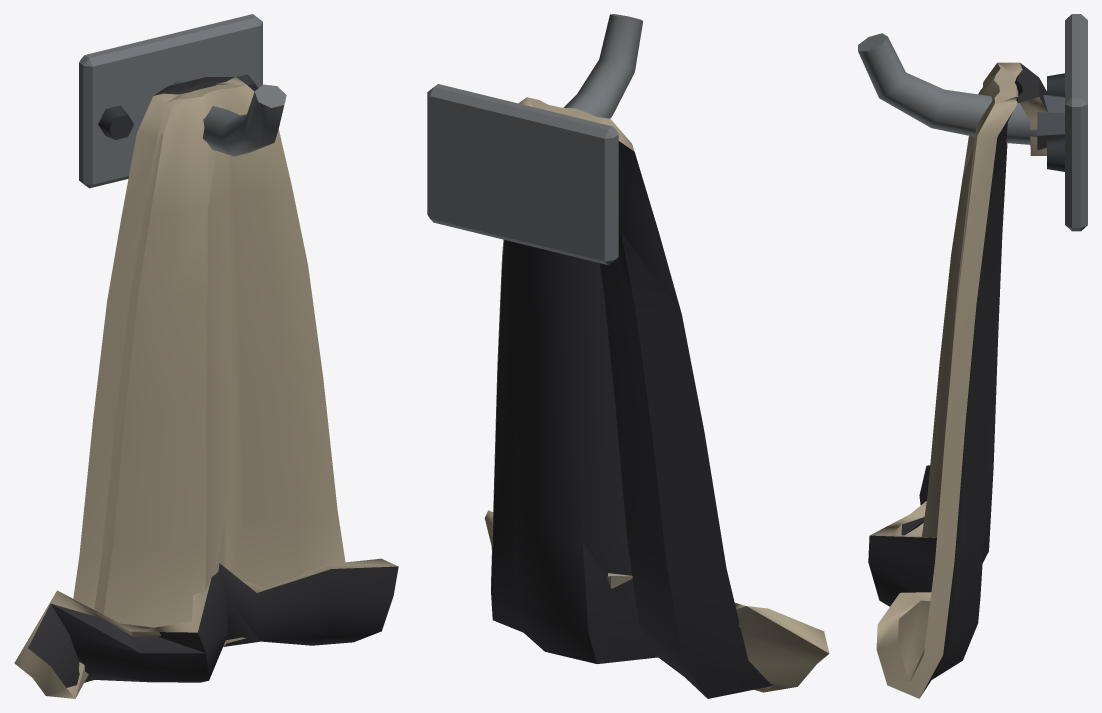
The model's file is SM_LPD_Prison_CellFittingPeg_01.fbx.
3 renders of one model, left to right at view 1: azimuth 30°, elevation 25°; view 2: azimuth 150°, elevation 25°; view 3: azimuth 270°, elevation 25°, orthographic. The views are drawn at different scales.
Parts seen in each view (by area): view 1: SM_LPD_Prison_CellFittingPeg_01; view 2: SM_LPD_Prison_CellFittingPeg_01; view 3: SM_LPD_Prison_CellFittingPeg_01.
Part boxes in pixels (x1,y1,x2,y2): SM_LPD_Prison_CellFittingPeg_01: [14, 14, 398, 698]; SM_LPD_Prison_CellFittingPeg_01: [427, 14, 829, 698]; SM_LPD_Prison_CellFittingPeg_01: [858, 14, 1087, 698].
Size of the model in its own units: 0.2579 by 0.4114 by 0.1407.
